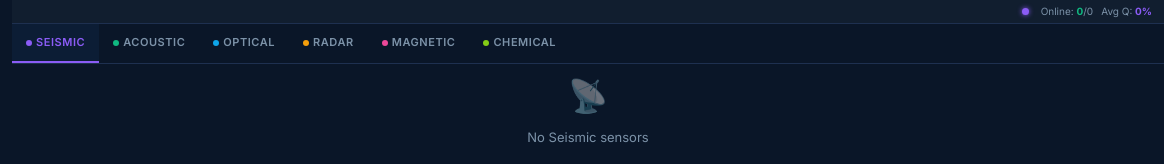
Test: SensorFamilyPanel › clicking Radar tab switches to Radar content
Step 1. Click the button "Radar" → (328, 43), box [289, 24, 368, 62]
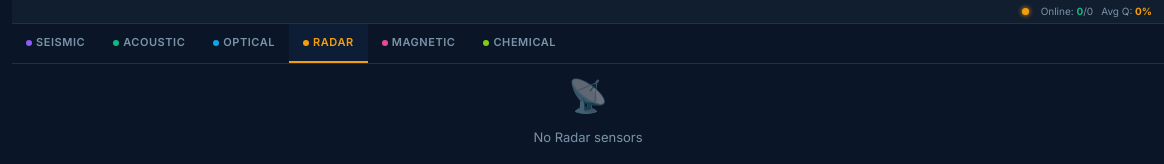
Expected: the text "No Radar sensors" is shown, [533, 128, 643, 147]
